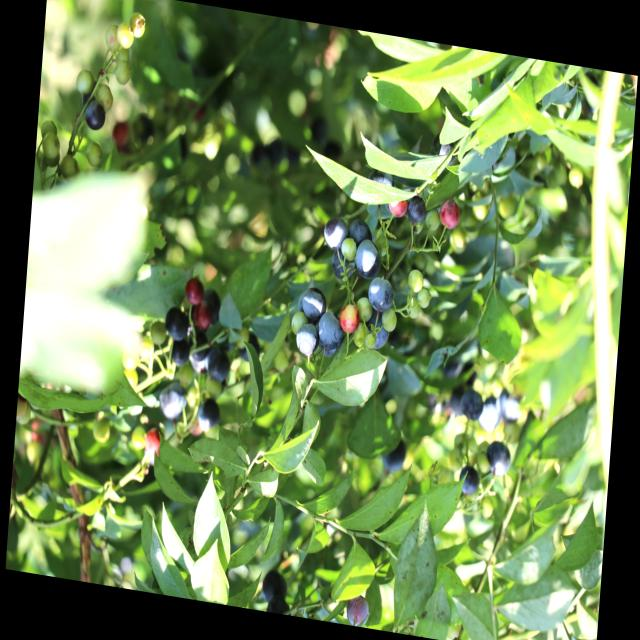blueberry: (156, 376, 189, 422), (259, 564, 291, 607), (365, 275, 398, 316), (494, 386, 524, 427), (353, 239, 382, 281), (364, 311, 392, 352), (297, 286, 328, 323), (317, 310, 344, 352), (293, 320, 322, 358), (486, 438, 514, 477), (322, 215, 349, 255), (342, 592, 372, 628), (83, 95, 109, 136), (196, 395, 222, 435), (380, 436, 407, 474), (366, 165, 396, 199), (163, 306, 189, 344), (328, 249, 356, 284), (206, 346, 231, 384), (199, 287, 223, 325), (347, 216, 375, 247), (460, 388, 484, 424), (479, 395, 502, 432), (404, 194, 428, 226), (187, 330, 210, 362), (169, 337, 192, 367)
blueberry-halfripe: (436, 195, 464, 232), (338, 302, 362, 336), (144, 425, 164, 457), (184, 277, 205, 306), (388, 193, 408, 221), (193, 304, 211, 333)
blueberry-unripe: (114, 20, 135, 53), (41, 130, 62, 159), (114, 58, 133, 89), (94, 82, 115, 110), (354, 296, 374, 325), (58, 155, 80, 181), (290, 308, 309, 338), (351, 321, 370, 351), (101, 23, 119, 54), (84, 141, 103, 170), (75, 69, 94, 98), (406, 266, 425, 295), (379, 306, 398, 334), (128, 12, 147, 38), (340, 236, 358, 262), (110, 45, 132, 65), (406, 295, 422, 322), (415, 286, 432, 311), (40, 119, 60, 140)
